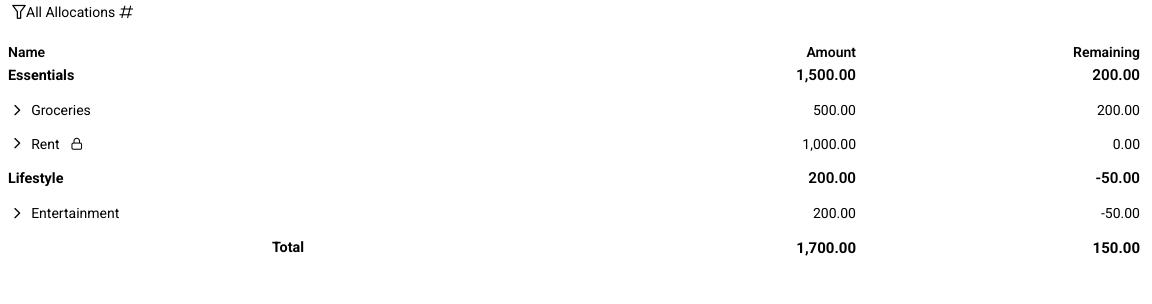
Test: BudgetAllocationListMobile › view mode — chevron expand/collapse › shows detail row when chevron is clicked
This screenshot has width=1152, height=304.
Click the icon with class "mobile-chevron" next to "Groceries". click: (17, 110)
box: [8,102,26,119]
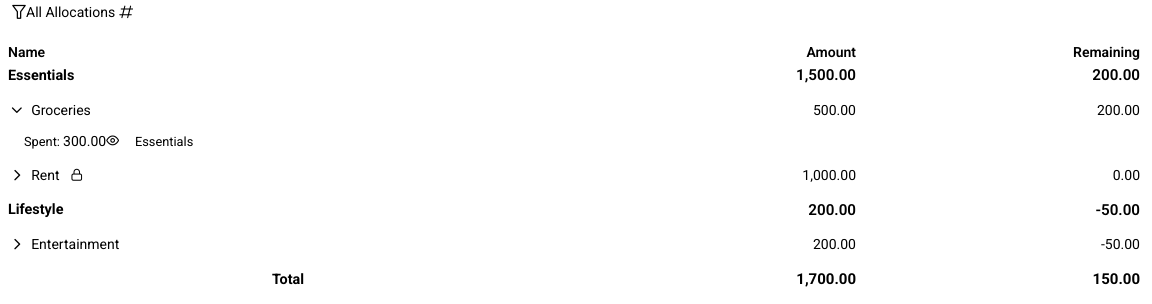
Result: the number of rows with class "mobile-detail-row" is 1 at [0,127,1151,158]
